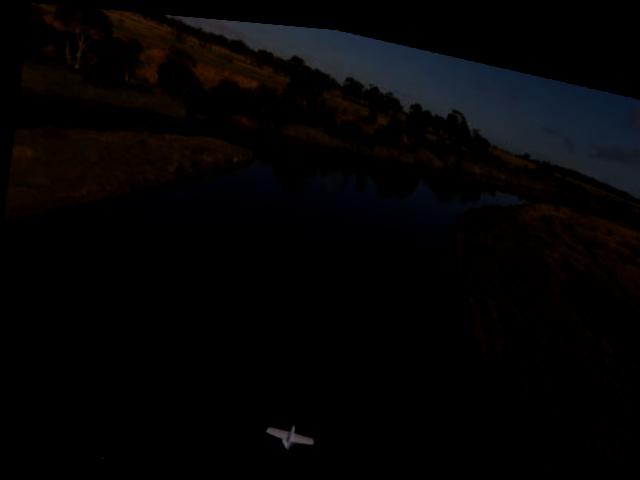uav: (259, 410, 318, 458)
